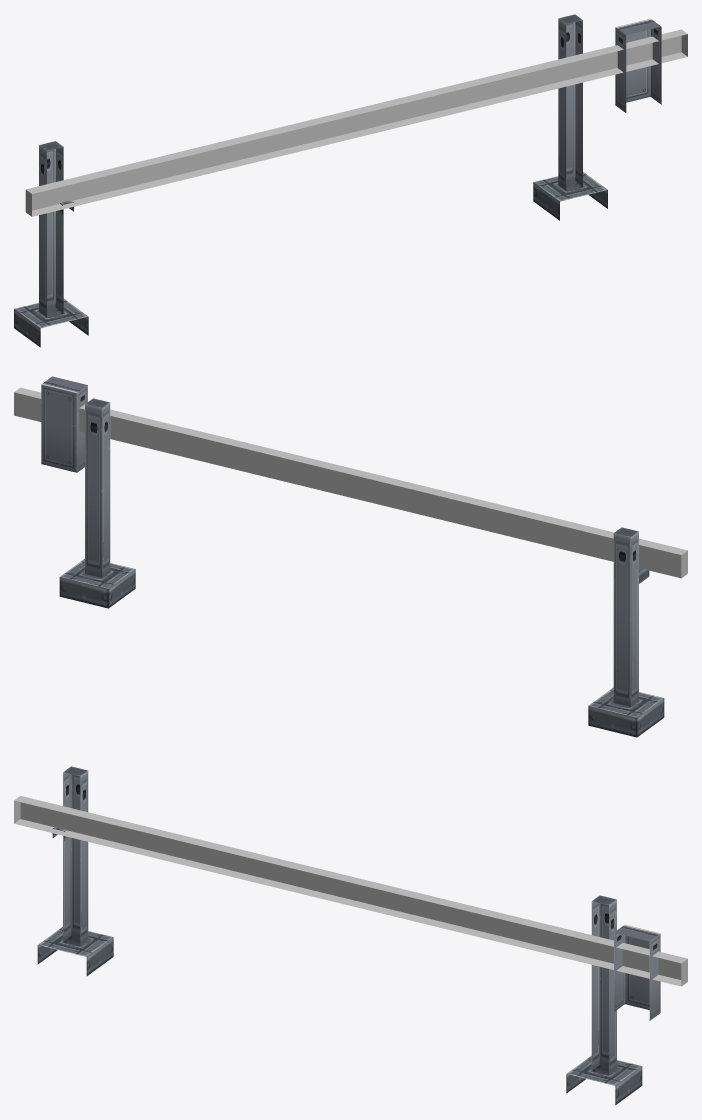
The model's file is barrier.fbx.
3 views of the same model, one above another, from view 1: azimuth 30°, elevation 25°; view 2: azimuth 150°, elevation 25°; view 3: azimuth 330°, elevation 25° (orthographic).
Visible parts, largest first — view 1: pole, barrier; view 2: pole, barrier; view 3: pole, barrier.
Boxes of the visible parts, x1,y1,x2,y2 form: pole: (25,18,687,216); barrier: (14,14,607,347); pole: (14,376,687,578); barrier: (59,398,664,737); pole: (14,796,687,1020); barrier: (37,766,642,1105).
Size of the model in its own units: 5.04 by 1.37 by 0.4849.
